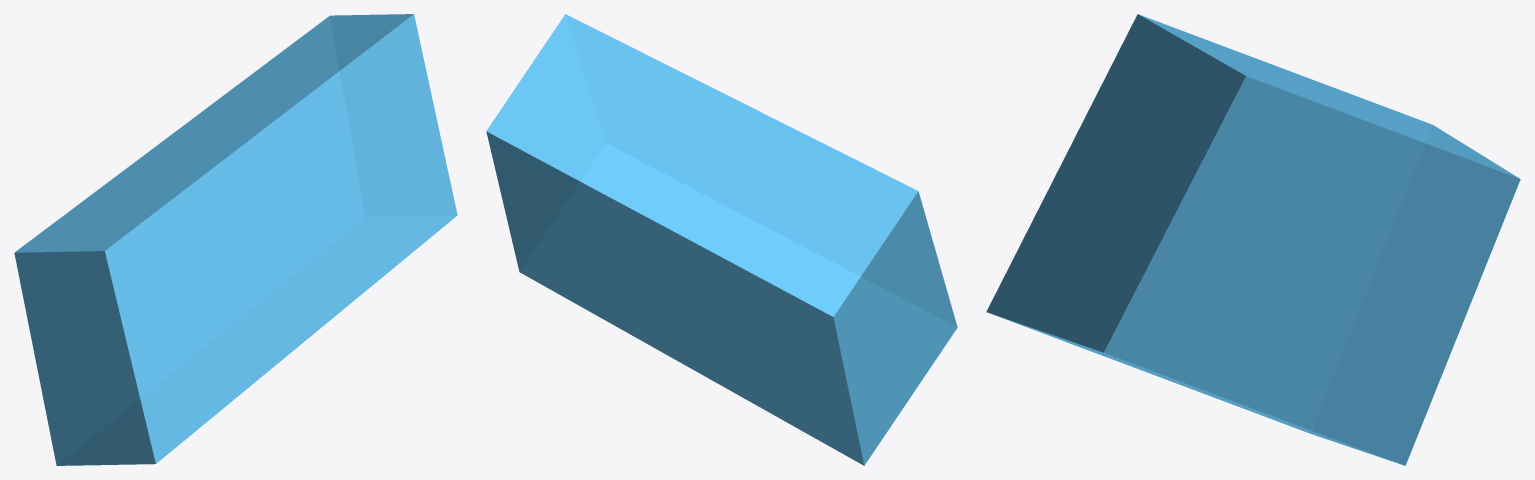
File: Event_421127236_HErechit_0.fbx
3 renders of one model, left to right at view 1: azimuth 30°, elevation 25°; view 2: azimuth 150°, elevation 25°; view 3: azimuth 270°, elevation 25°, orthographic. The views are drawn at different scales.
Visible parts, largest first — view 1: Model; view 2: Model; view 3: Model.
Part boxes in pixels (bbox=[...]): Model: bbox=[14, 14, 457, 465]; Model: bbox=[486, 14, 957, 465]; Model: bbox=[986, 14, 1520, 465].
Bounding box in the file's own units: 0.766 × 0.8206 × 0.6342.
